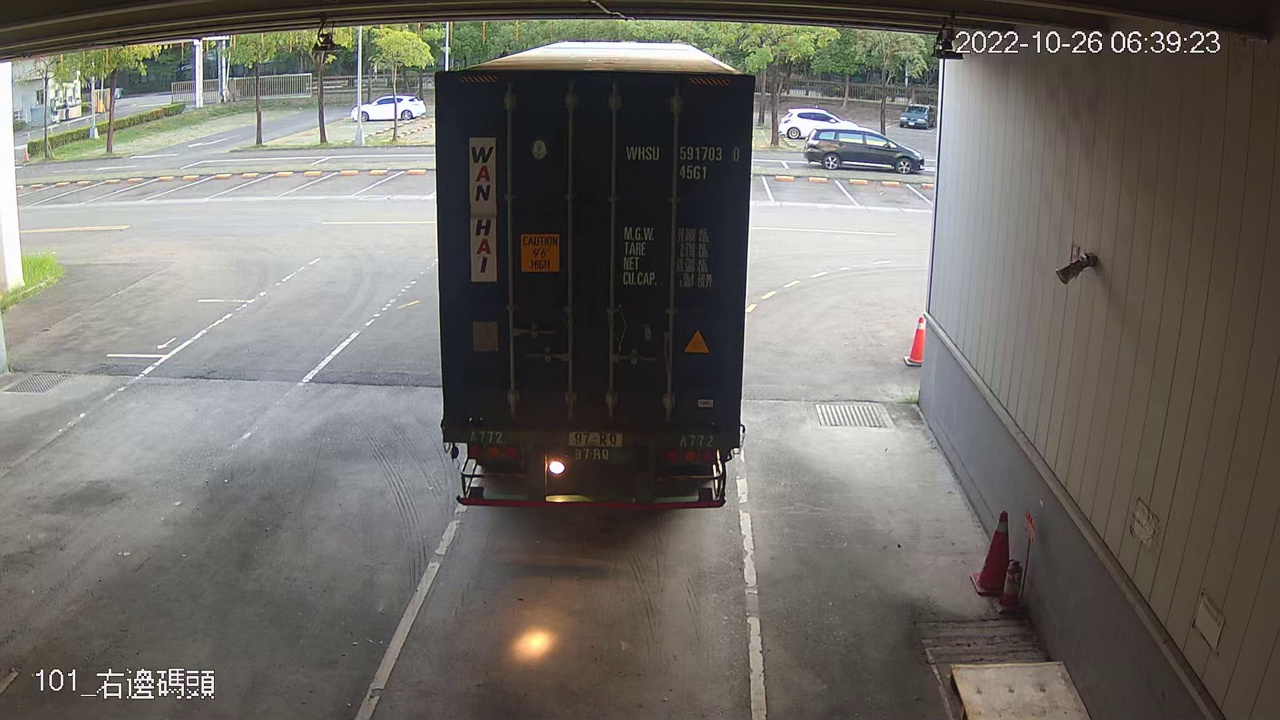container: (619, 137, 745, 184)
